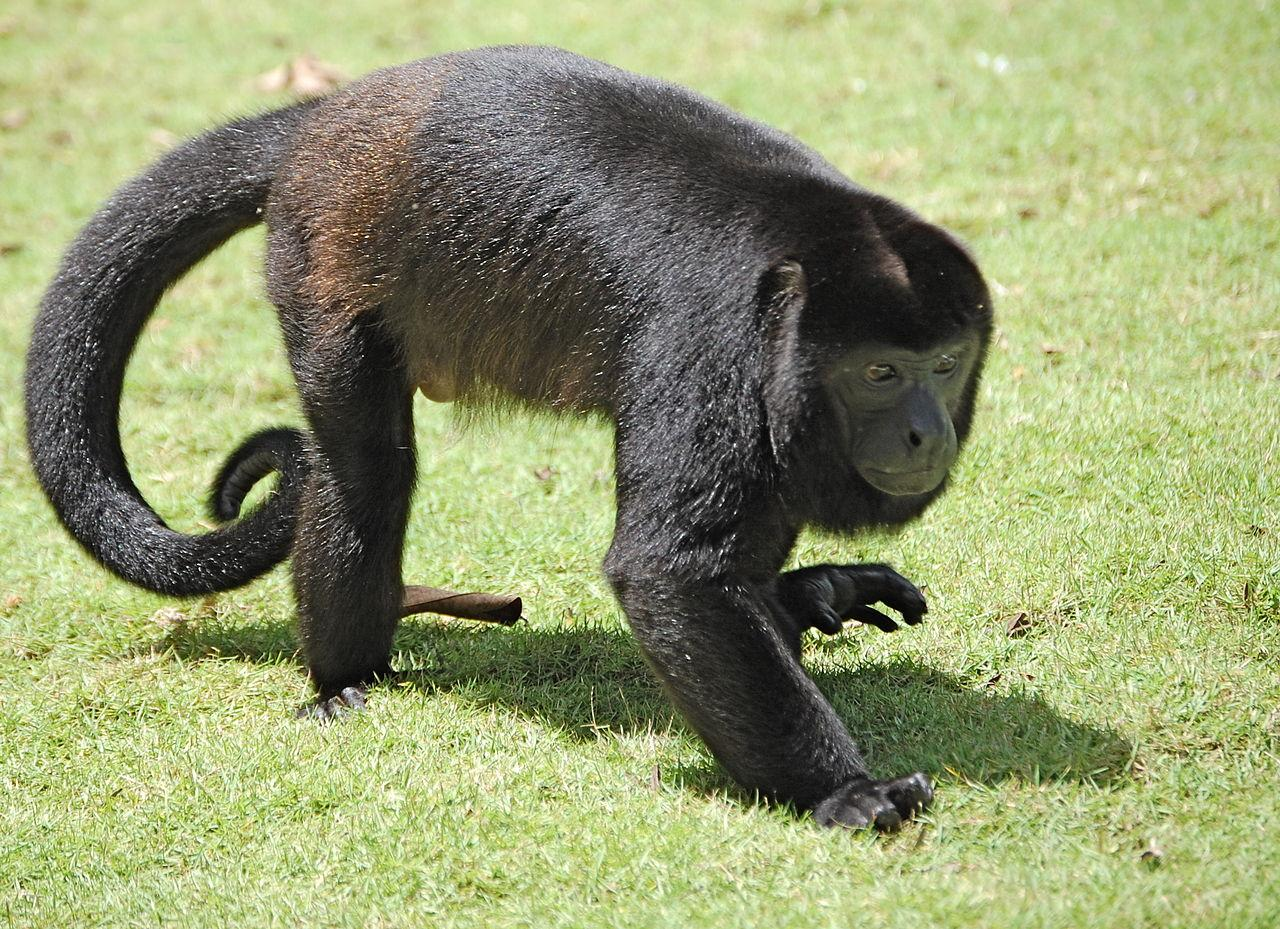monkey: (24, 48, 992, 829)
